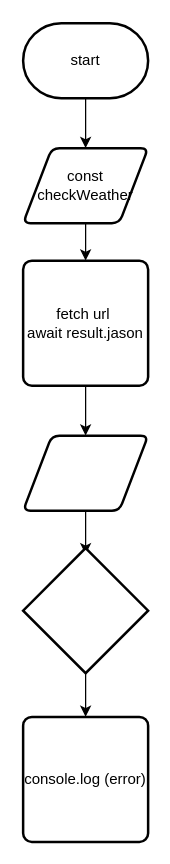
Some shapes in this 170 by 864 pixel diagram are drawn without their labels. The shapes that lost their labels are listed below. From the top down, each one's centre as x and y in pixels, then its label:
At (x=85, y=472): "print icon and weather".
At (x=85, y=610): "catch error".
